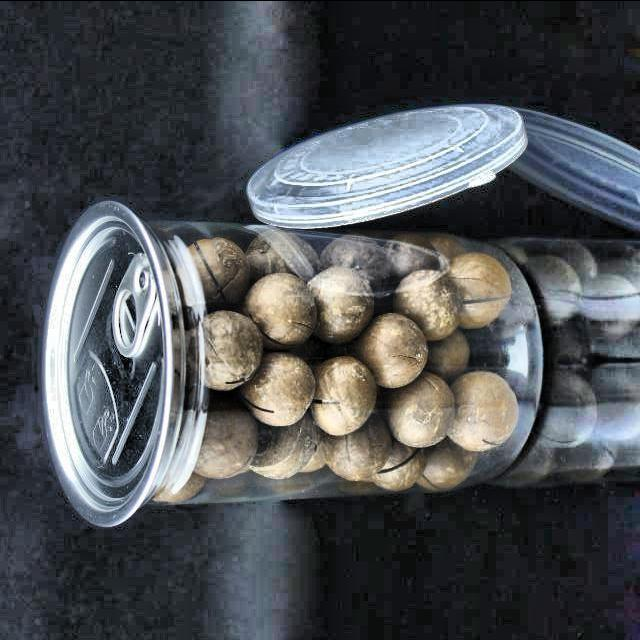Aluminum Can: (22, 186, 217, 533)
